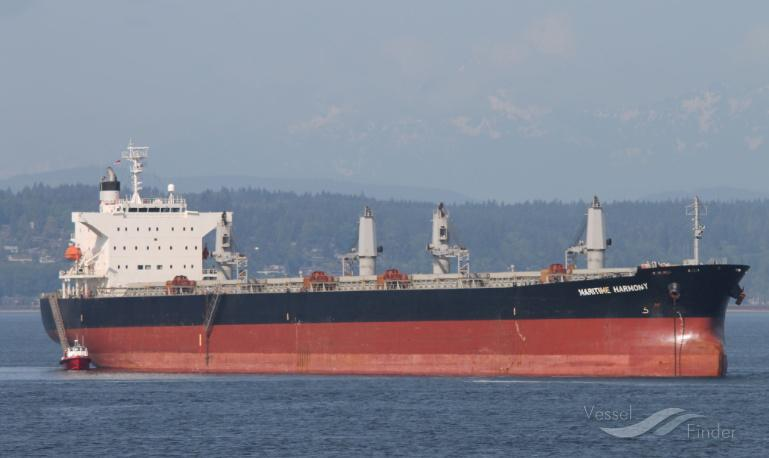OCR: (576, 282, 654, 298)
